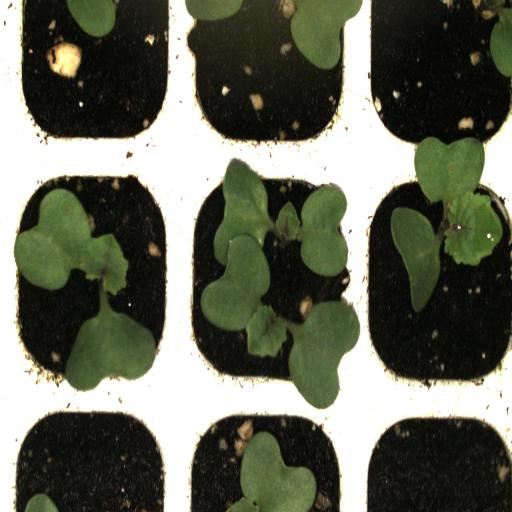seedling: (8, 153, 178, 393), (366, 151, 512, 394)
twoseedling: (179, 154, 365, 397)
